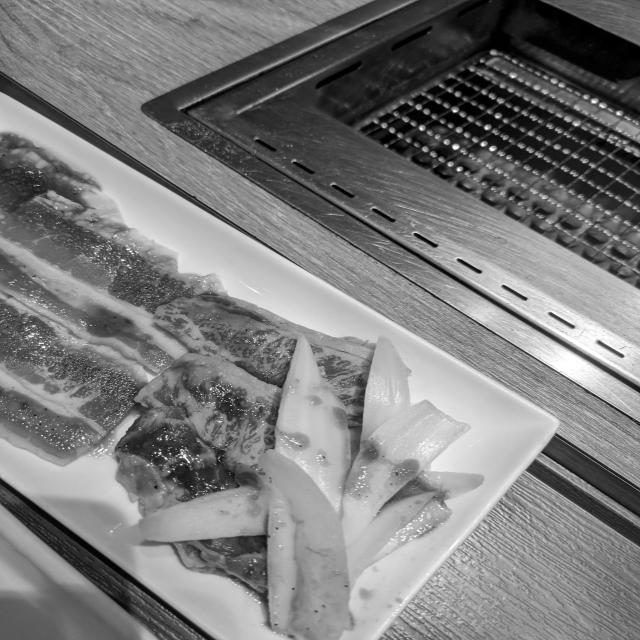NG raw beef,: (141, 281, 427, 441), (0, 178, 217, 383), (103, 400, 265, 600), (0, 287, 165, 472), (132, 341, 302, 488)
